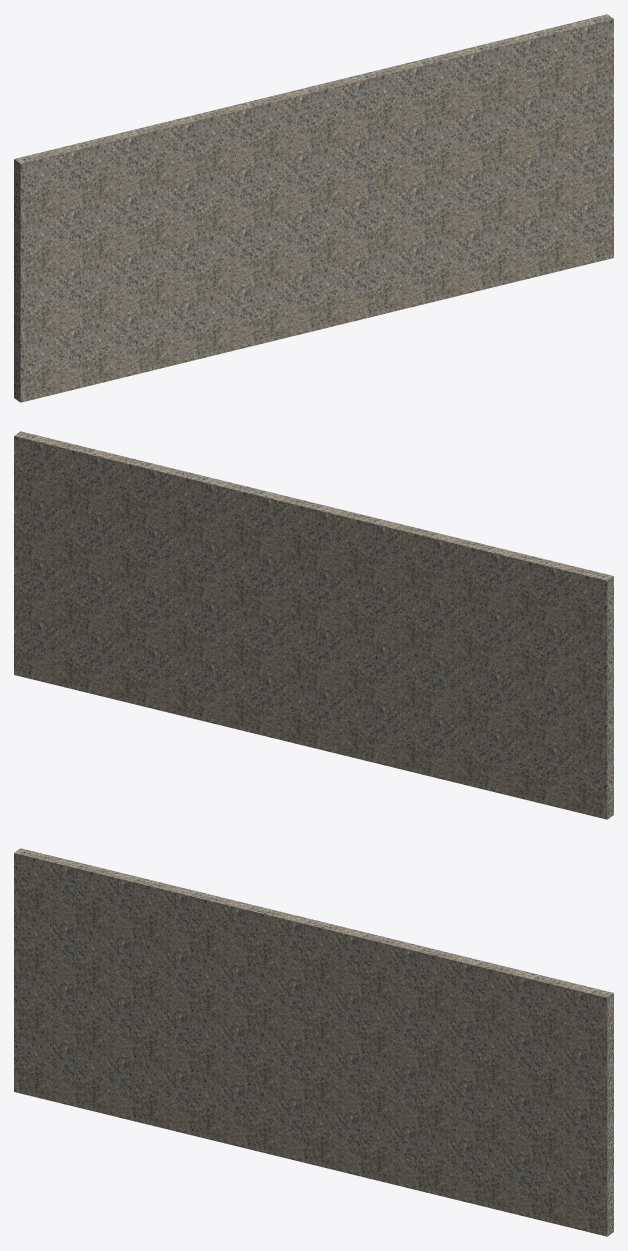
The model's file is Lobby_Wall_10.obj.
3 views of the same model, one above another, from view 1: azimuth 30°, elevation 25°; view 2: azimuth 150°, elevation 25°; view 3: azimuth 330°, elevation 25° (orthographic).
Visible parts, largest first — view 1: Lobby_Wall_10; view 2: Lobby_Wall_10; view 3: Lobby_Wall_10.
Part boxes in pixels (x1=…): Lobby_Wall_10: x1=14, y1=14, x2=613, y2=402; Lobby_Wall_10: x1=14, y1=431, x2=613, y2=819; Lobby_Wall_10: x1=14, y1=848, x2=613, y2=1236.
Bounding box in the file's own units: 10.4 × 4 × 0.2.
1 material, 1 textured.
